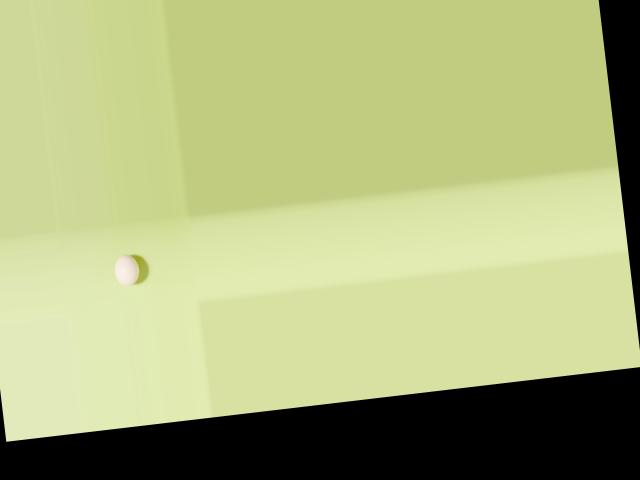egg: (114, 252, 141, 286)
